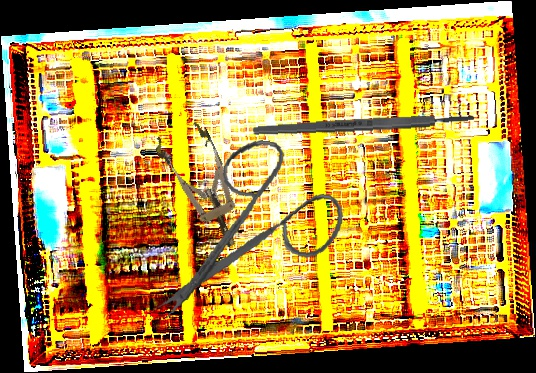Iris Scissors: (152, 128, 354, 344)
Scalpel Handle: (252, 112, 475, 137)
Speculum: (151, 117, 256, 258)
